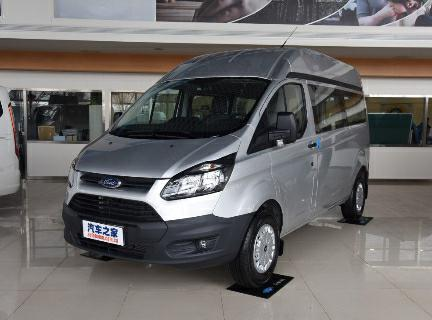福特-全顺: (58, 43, 378, 282)
